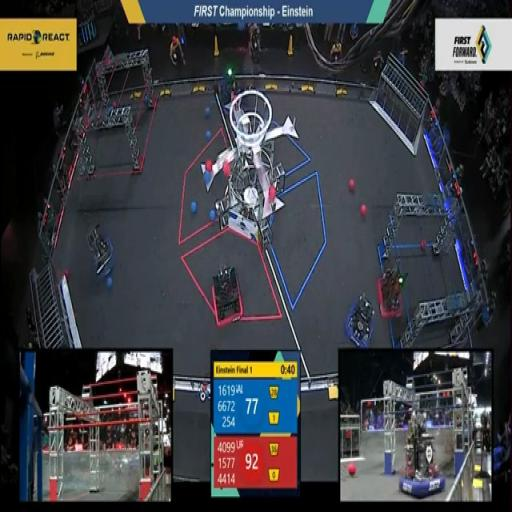robot: (210, 254, 247, 332), (342, 292, 380, 347), (86, 218, 116, 283), (374, 266, 406, 320)
